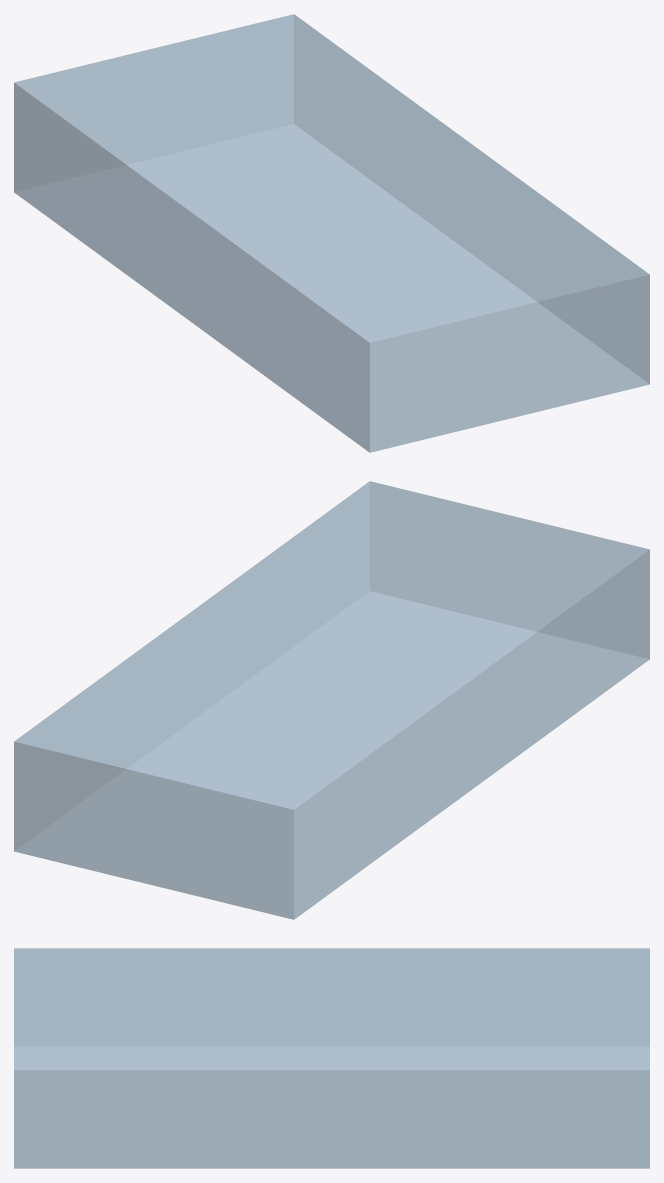
Rendered from blockout.glb.
3 renders of one model, top to bottom at view 1: azimuth 30°, elevation 25°; view 2: azimuth 150°, elevation 25°; view 3: azimuth 270°, elevation 25°, orthographic. The views are drawn at different scales.
Visible parts, largest first — view 1: B08_ENVELOPE_NOT_FINAL_MESH; view 2: B08_ENVELOPE_NOT_FINAL_MESH; view 3: B08_ENVELOPE_NOT_FINAL_MESH.
Boxes of the visible parts, <box> form: B08_ENVELOPE_NOT_FINAL_MESH: <box>14,14,649,452</box>; B08_ENVELOPE_NOT_FINAL_MESH: <box>14,481,649,919</box>; B08_ENVELOPE_NOT_FINAL_MESH: <box>14,948,649,1168</box>.
Bounding box in the file's own units: 2 × 0.75 × 4.4.
